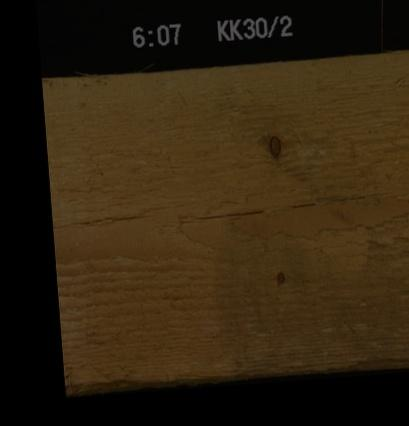dry_knot: (266, 133, 281, 160)
split: (182, 209, 262, 217), (101, 210, 153, 221), (288, 200, 313, 208)
wave: (64, 376, 172, 393)
